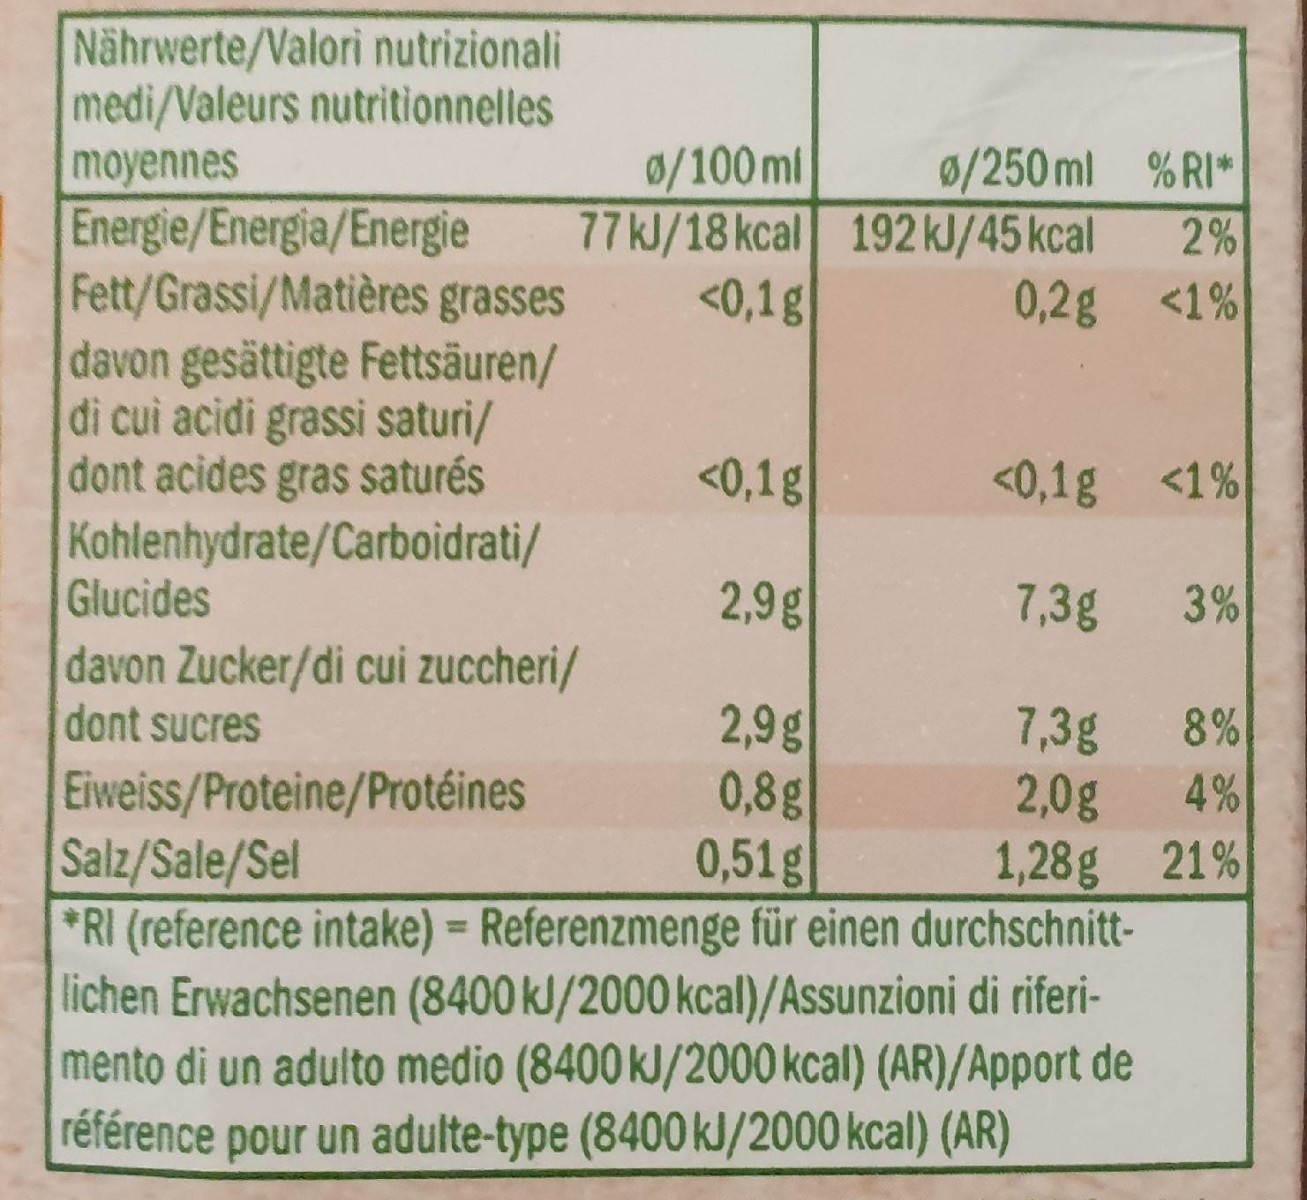column: (63, 20, 805, 891), (850, 141, 1098, 891), (1135, 140, 1246, 888)
table: (36, 13, 1255, 898)
